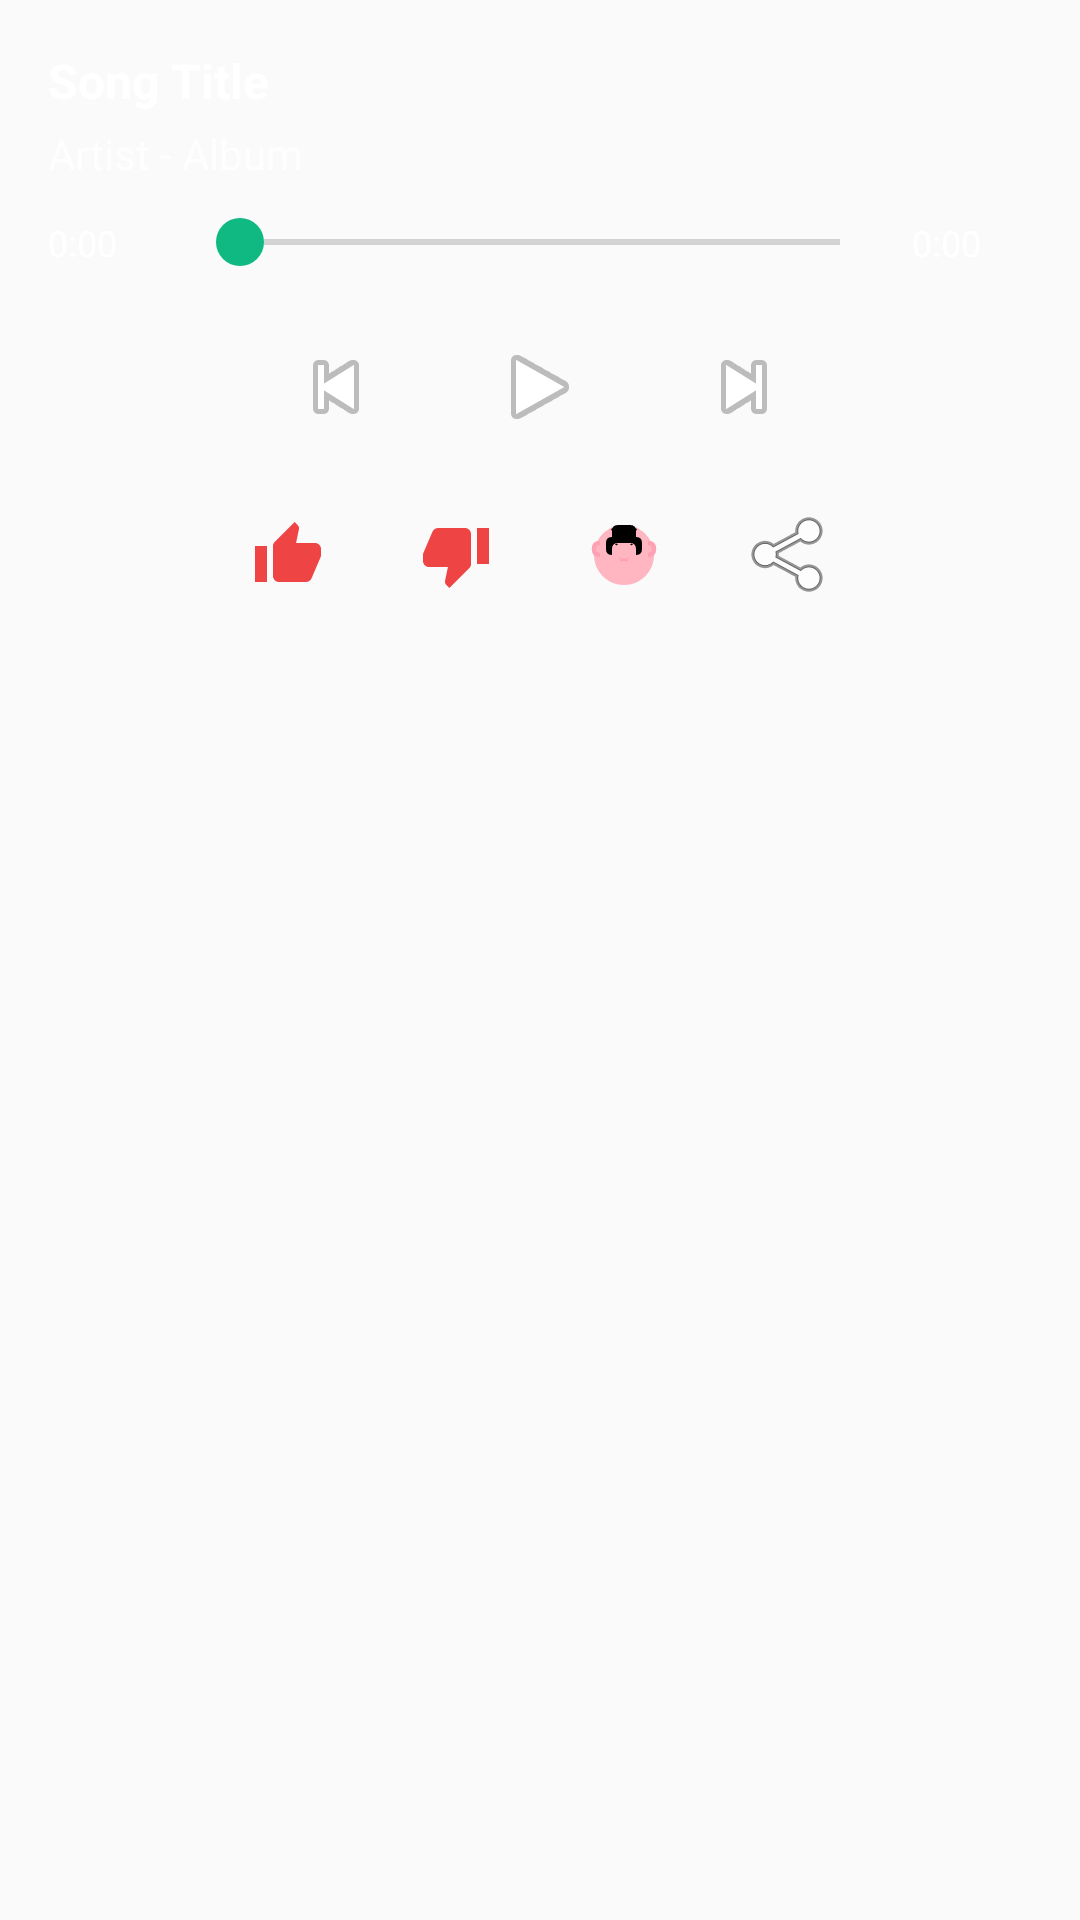

Locate icon controls on the screen. Image size 1080 × 1920, boxes as {"left": x1, "top": y1, "right": x2, "bottom": y2}.
Dislike: {"left": 423, "top": 528, "right": 489, "bottom": 588}
Like: {"left": 255, "top": 522, "right": 321, "bottom": 582}
Next: {"left": 721, "top": 360, "right": 767, "bottom": 414}
Play/Pause: {"left": 511, "top": 355, "right": 569, "bottom": 419}
Previous: {"left": 313, "top": 360, "right": 359, "bottom": 414}
Share: {"left": 751, "top": 517, "right": 823, "bottom": 592}
